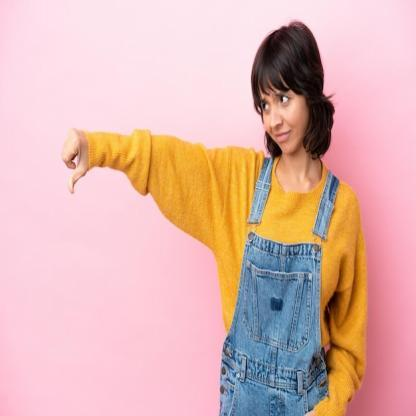thumb_down: (58, 126, 92, 196)
